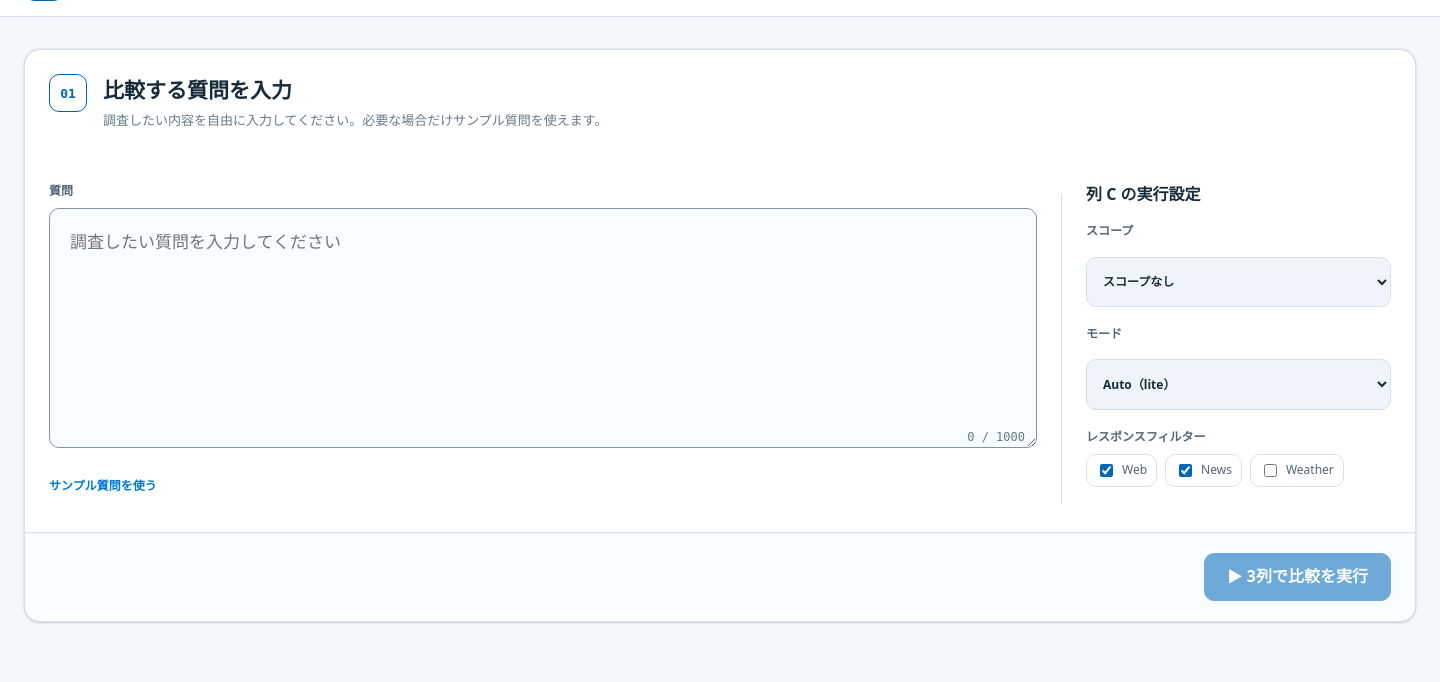
Scenario: comparison form › comparison results › toggles columns while running, retains results, hides unavailable cost and exports all columns
Later steps or results of the test are not shown.
Expected: the heading "サンプル質問を使う" is shown, x1=49 y1=477 x2=157 y2=494
In the text box labelled "質問": point(543, 328) x1=49 y1=208 x2=1037 y2=448, type "質問"
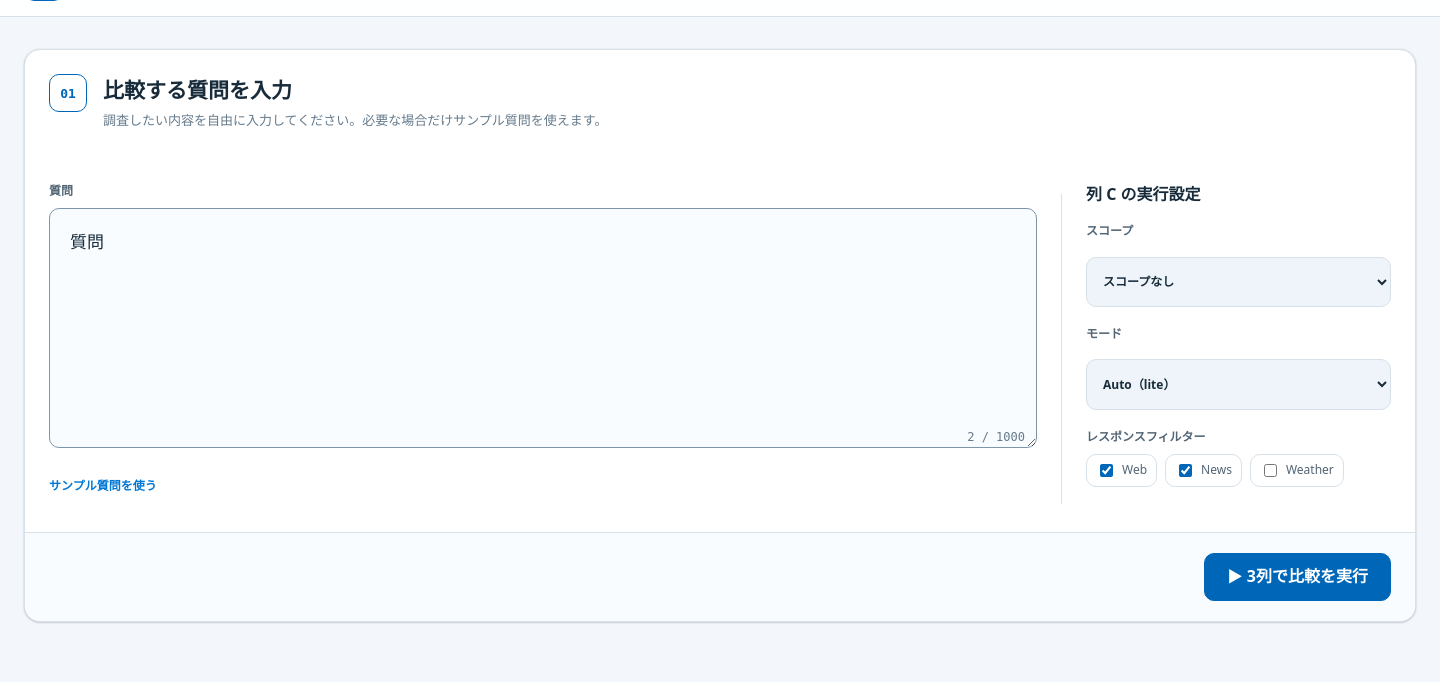
Click the button "▶ 3列で比較を実行": point(1298, 577) x1=1204 y1=553 x2=1391 y2=601
(page scrolled)
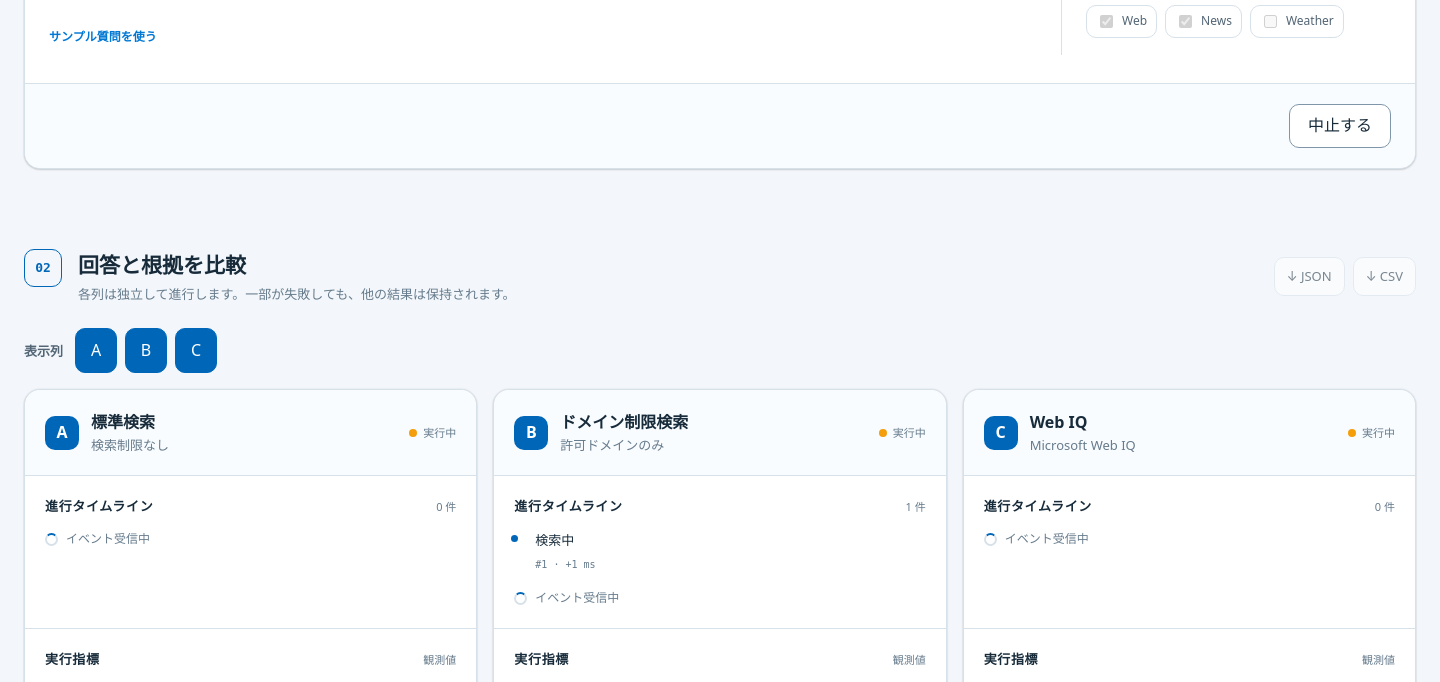
Click the button "A": point(96, 351) x1=75 y1=328 x2=117 y2=373
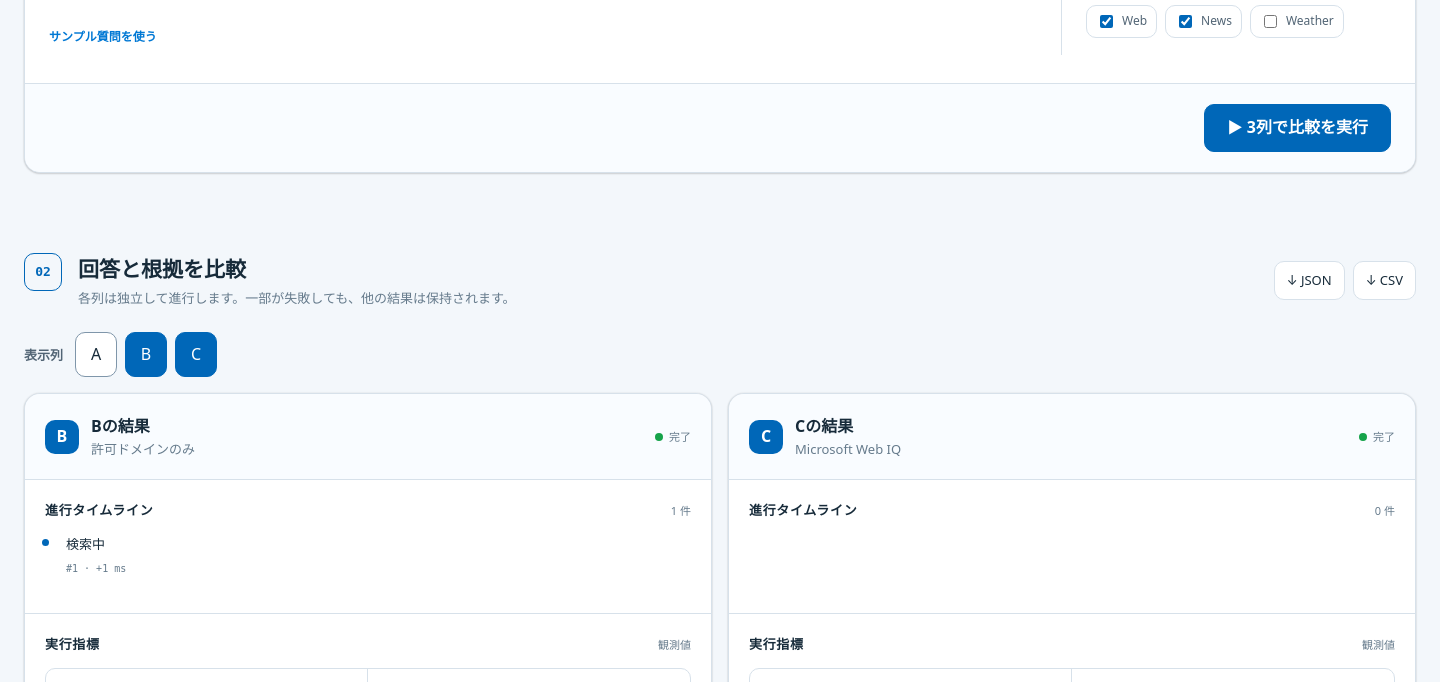
Expected: the text "検索中" is shown, x1=66 y1=535 x2=105 y2=553
Click the button "C": point(196, 355) x1=175 y1=332 x2=217 y2=377
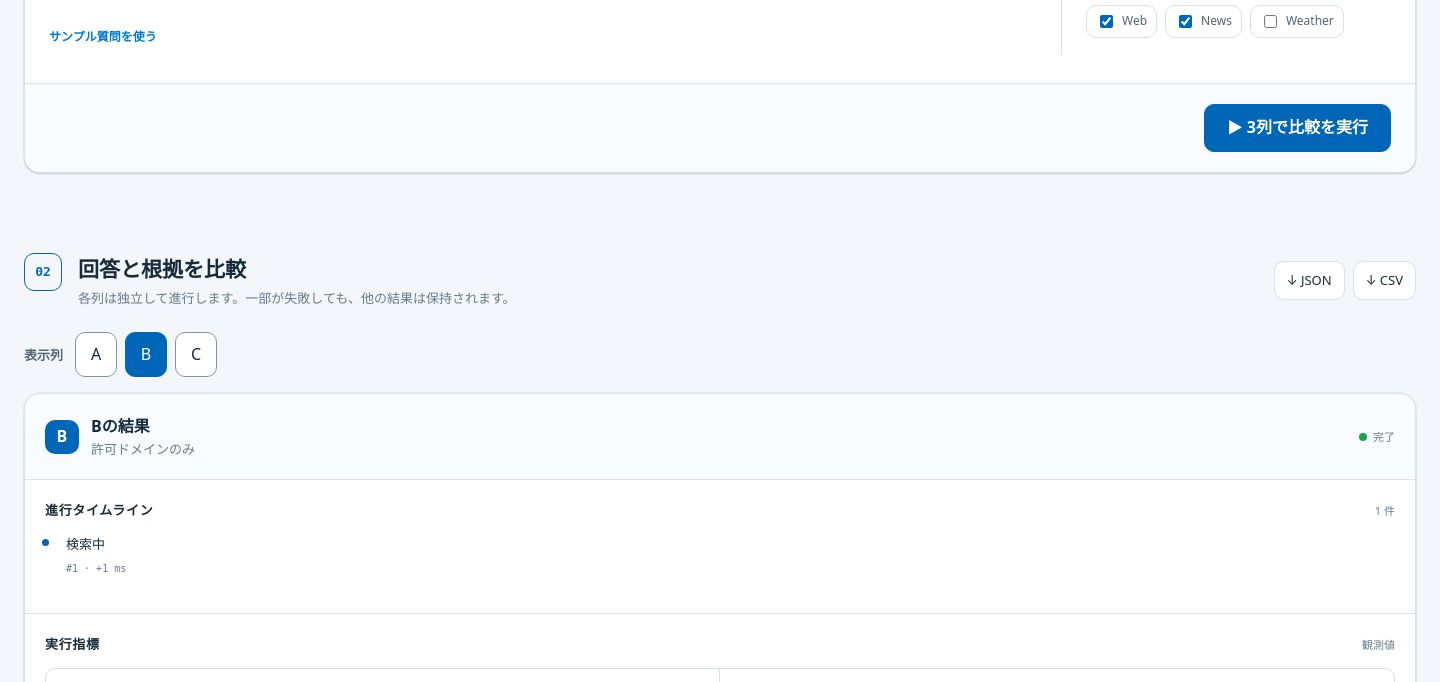
Click the button "A": point(96, 355) x1=75 y1=332 x2=117 y2=377
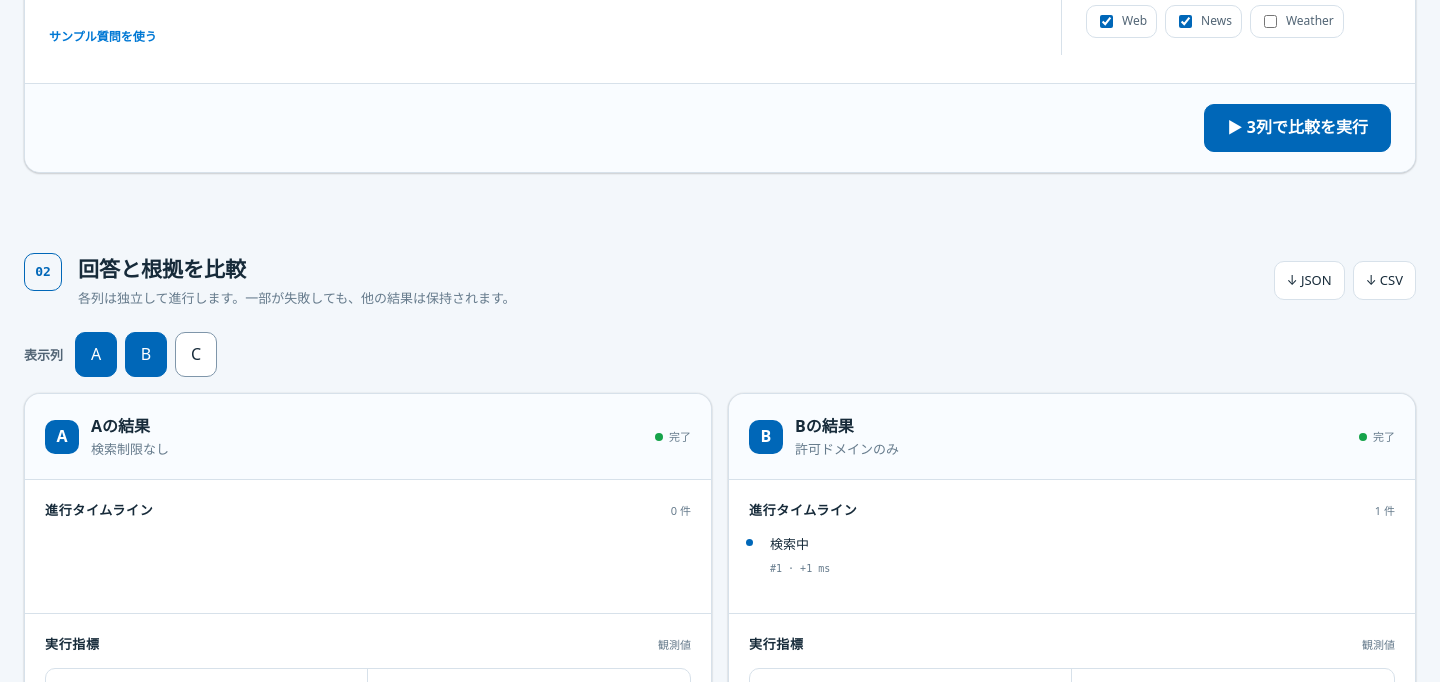
Expected: the button "A" is pressed, x1=75 y1=332 x2=117 y2=377
Expected: the button "C" is not pressed, x1=175 y1=332 x2=217 y2=377
